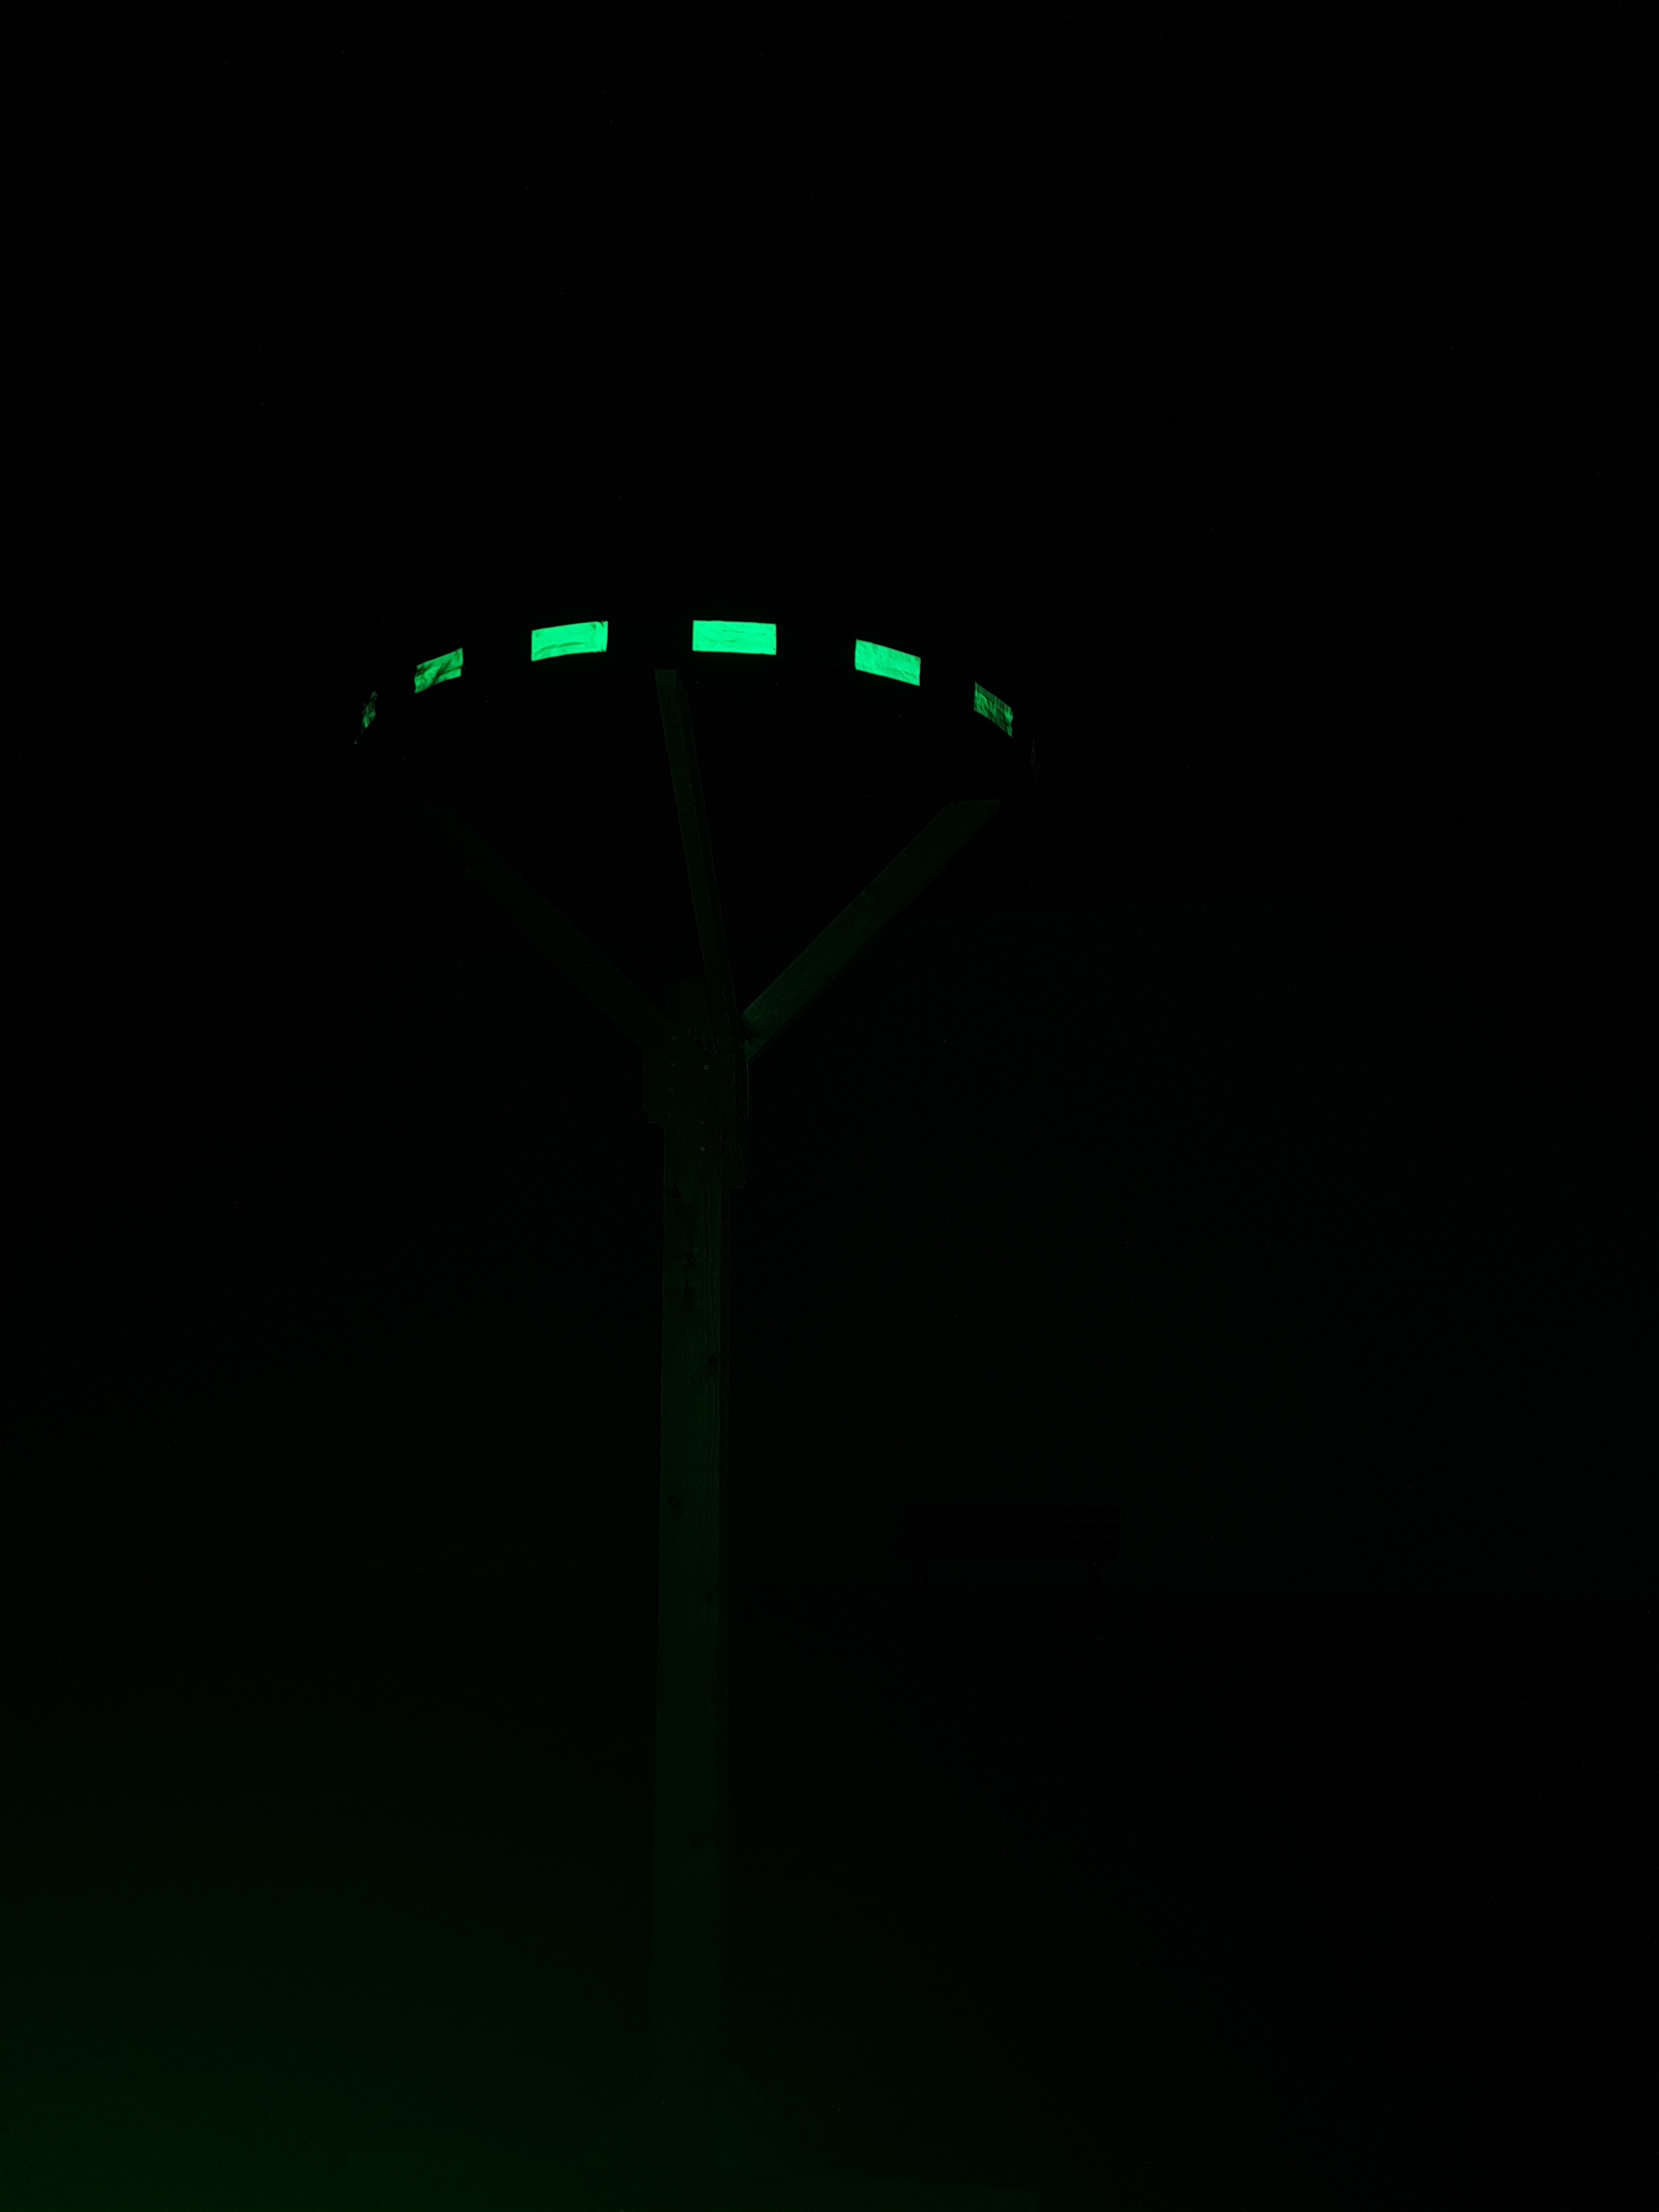hoop: (359, 613, 1019, 752)
